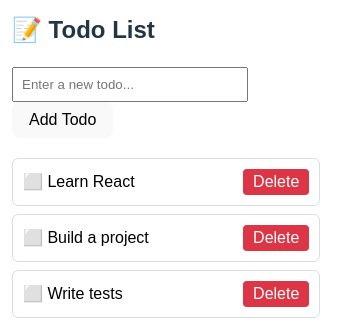
allows a user to delete a todo
The width and height of the screenshot is (337, 335).
Expected: the text "⬜ Learn React" is shown, top-left (23, 170), bottom-right (135, 194)
What coordinates should you click on to do the following:
click the button with test id "delete-todo-1"
I would click on:
 (276, 182)
Its box is top-left (243, 170), bottom-right (309, 196).
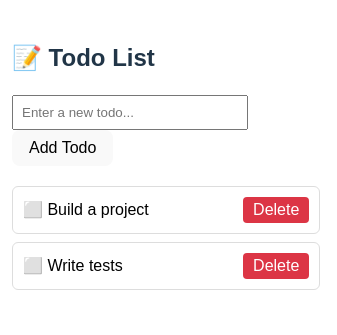
Now the text "Learn React" is gone
